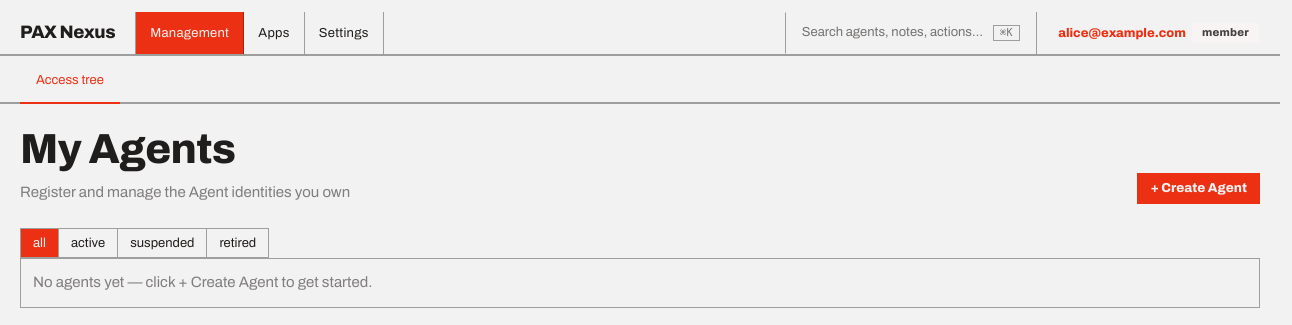
Test: AppShell top bar › closes the user menu on Escape
Click the button "alice@example.com member": coordinates (1159, 33) [1053,16,1264,50]
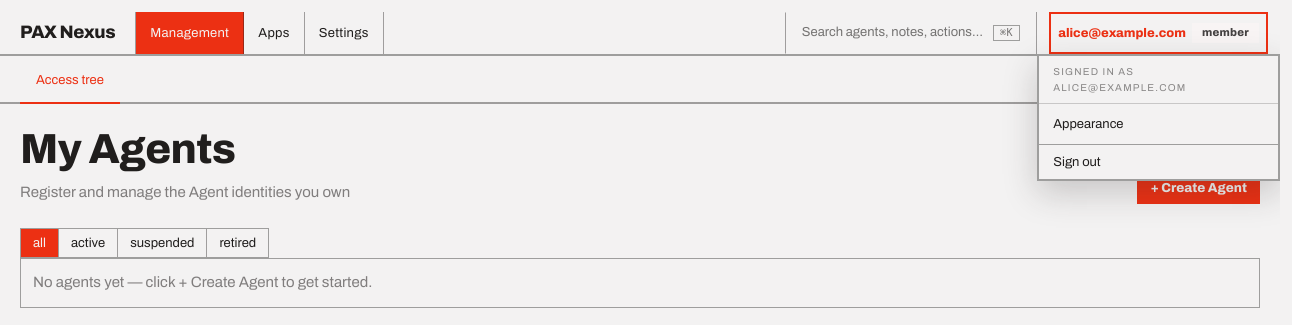
Expected: the menu is shown, [1037,54,1280,181]
Press Escape
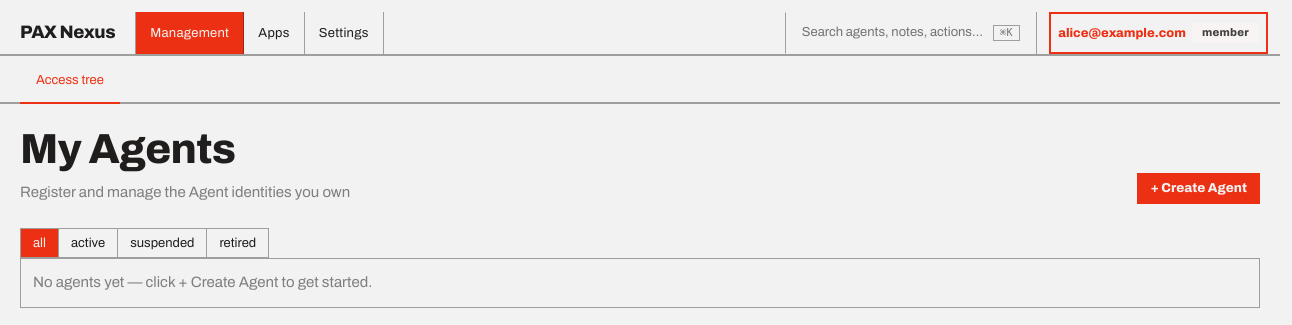
Expected: the menu is gone
